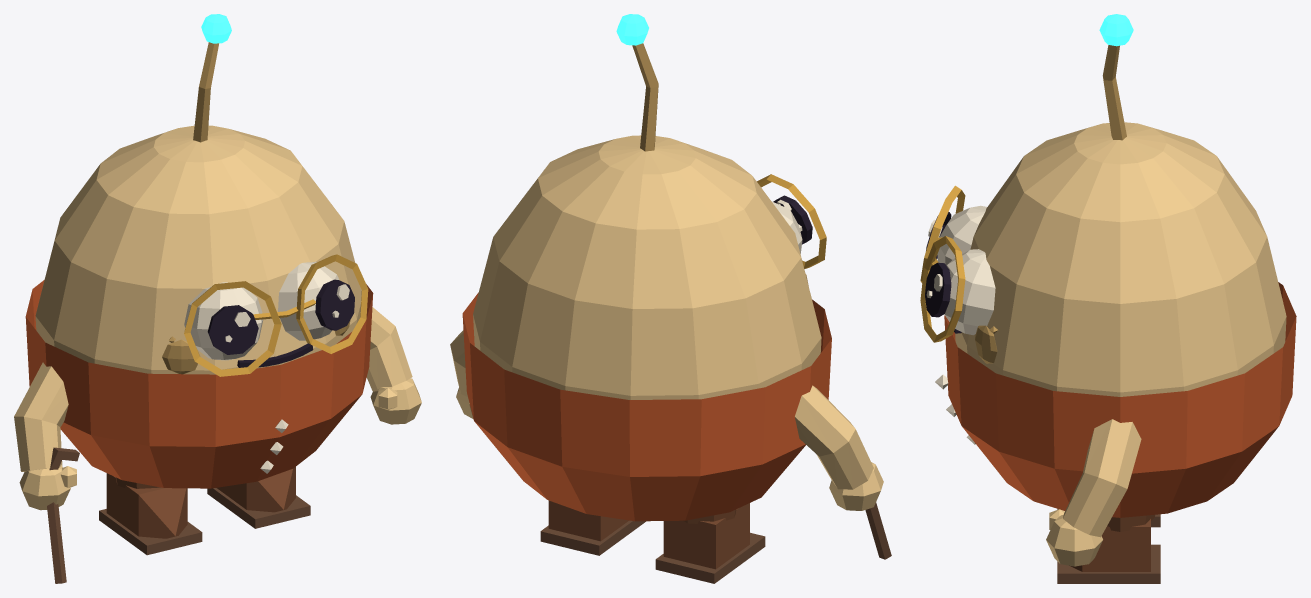
The model's file is Char_Native_Elder.fbx.
3 views of the same model, side by side, from view 1: azimuth 30°, elevation 25°; view 2: azimuth 150°, elevation 25°; view 3: azimuth 270°, elevation 25° (orthographic). The views are drawn at different scales.
Parts seen in each view (by area): view 1: Char_Native_Elder_Body, Char_Native_Elder_Head, Char_Native_Elder_Arm_R, Char_Native_Elder_Leg_R, Char_Native_Elder_Arm_L, Char_Native_Elder_Leg_L; view 2: Char_Native_Elder_Body, Char_Native_Elder_Arm_R, Char_Native_Elder_Leg_R, Char_Native_Elder_Head, Char_Native_Elder_Leg_L, Char_Native_Elder_Arm_L; view 3: Char_Native_Elder_Body, Char_Native_Elder_Head, Char_Native_Elder_Arm_L, Char_Native_Elder_Leg_L.
Part boxes in pixels (x1,y1,x2,y2): Char_Native_Elder_Body: (25, 125, 373, 488); Char_Native_Elder_Head: (162, 14, 368, 376); Char_Native_Elder_Arm_R: (14, 362, 79, 583); Char_Native_Elder_Leg_R: (99, 473, 202, 555); Char_Native_Elder_Arm_L: (366, 307, 421, 424); Char_Native_Elder_Leg_L: (207, 467, 310, 528); Char_Native_Elder_Body: (462, 135, 831, 521); Char_Native_Elder_Arm_R: (794, 385, 891, 559); Char_Native_Elder_Leg_R: (655, 503, 765, 583); Char_Native_Elder_Head: (616, 14, 826, 285); Char_Native_Elder_Leg_L: (540, 500, 645, 555); Char_Native_Elder_Arm_L: (450, 330, 473, 419); Char_Native_Elder_Body: (935, 122, 1296, 517); Char_Native_Elder_Head: (920, 14, 1133, 363); Char_Native_Elder_Arm_L: (1046, 419, 1141, 566); Char_Native_Elder_Leg_L: (1057, 514, 1160, 583).
Bounding box in the file's own units: 1.29 × 1.55 × 0.9851.
